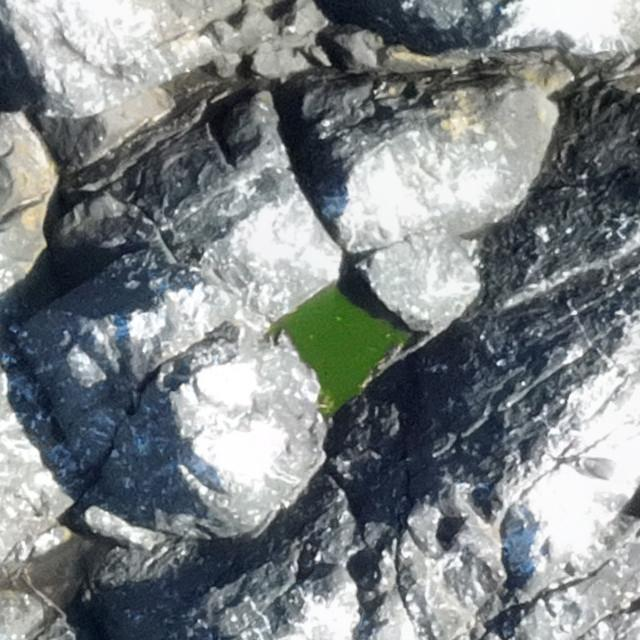umineko: (573, 457, 625, 481)
